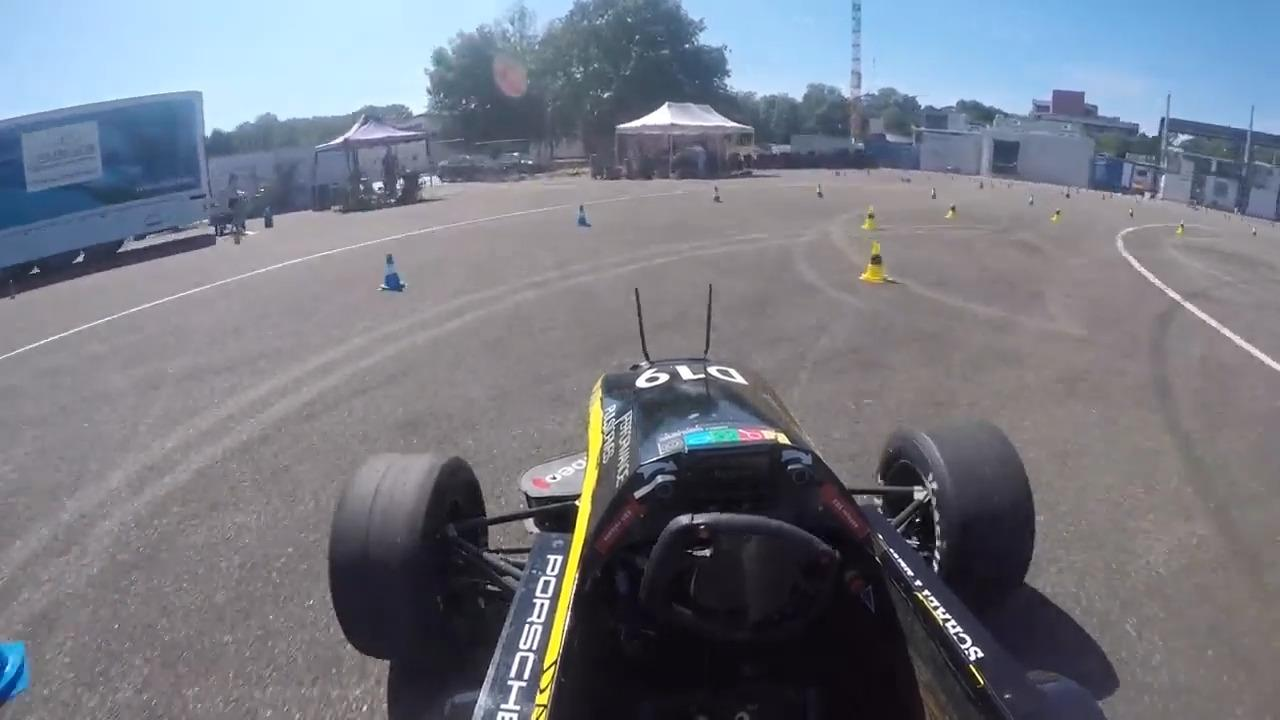blue_cone: (378, 252, 408, 292), (576, 204, 592, 227)
yellow_cone: (858, 242, 893, 284), (862, 205, 880, 232)
